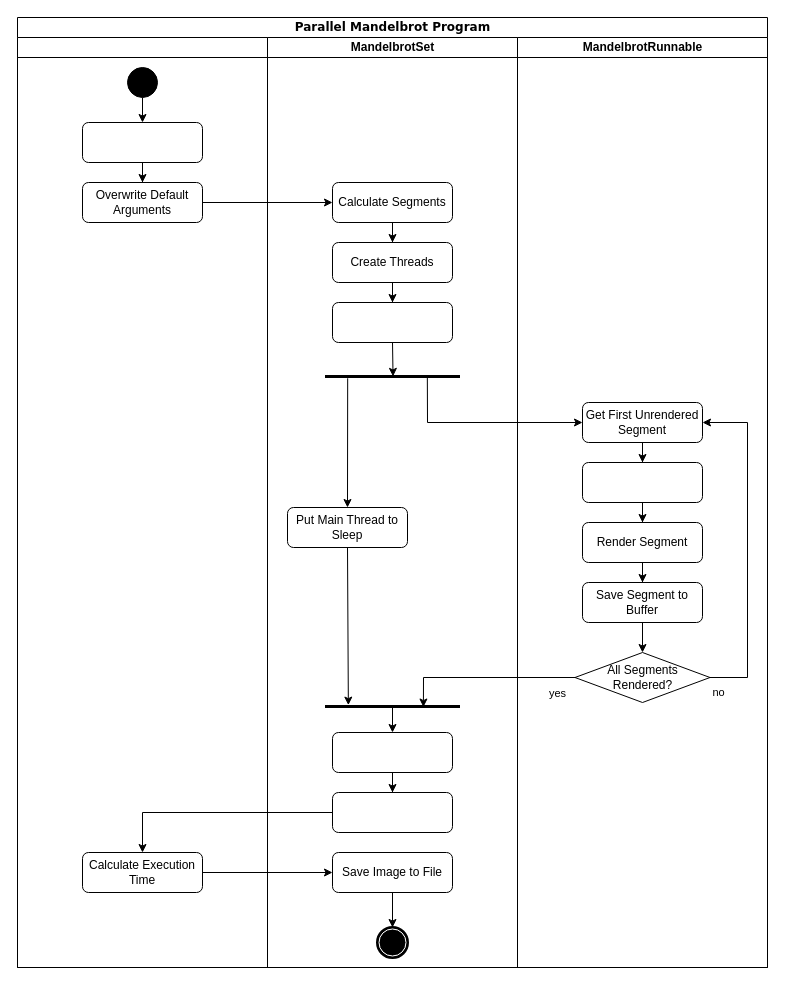
This 785x985 diagram has some shape labels left out. The box of each missing label's shape, as (x1, y1, x2, y2) in pixels:
Increment Segment Counter: (582, 462, 702, 502)
Join Threads: (332, 732, 452, 772)
Process Arguments: (82, 122, 202, 162)
Project: (16, 36, 268, 968)
Start Threads: (332, 302, 452, 342)
Wake Up Main Thread: (332, 792, 452, 832)
